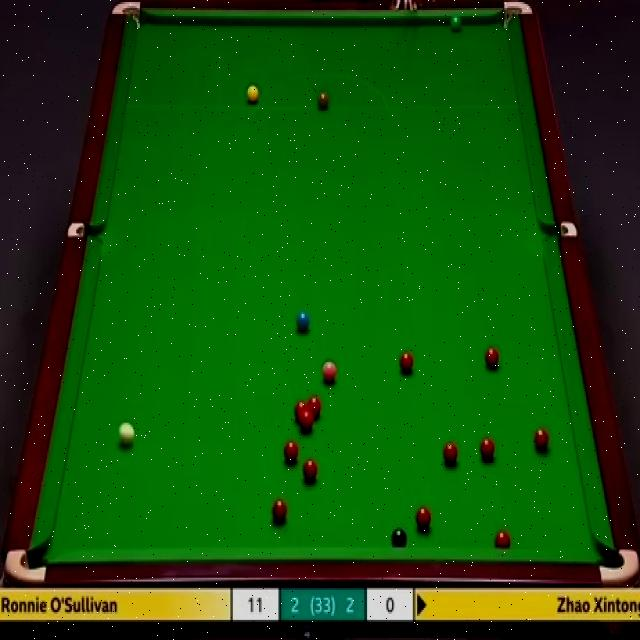black-ball: (392, 526, 408, 548)
blue-ball: (294, 310, 312, 331)
brown-ball: (317, 88, 329, 109)
green-ball: (450, 11, 463, 31)
pink-ball: (321, 361, 338, 386)
red-ball: (302, 454, 320, 483), (398, 348, 415, 376), (442, 441, 460, 467), (532, 424, 550, 450), (415, 507, 432, 534), (270, 497, 288, 522), (480, 436, 497, 462), (280, 442, 300, 464), (484, 346, 499, 371), (294, 400, 308, 426), (308, 396, 321, 420), (494, 529, 511, 547), (300, 413, 314, 433)
white-ball: (119, 420, 133, 447)
yellow-ball: (246, 87, 258, 103)
